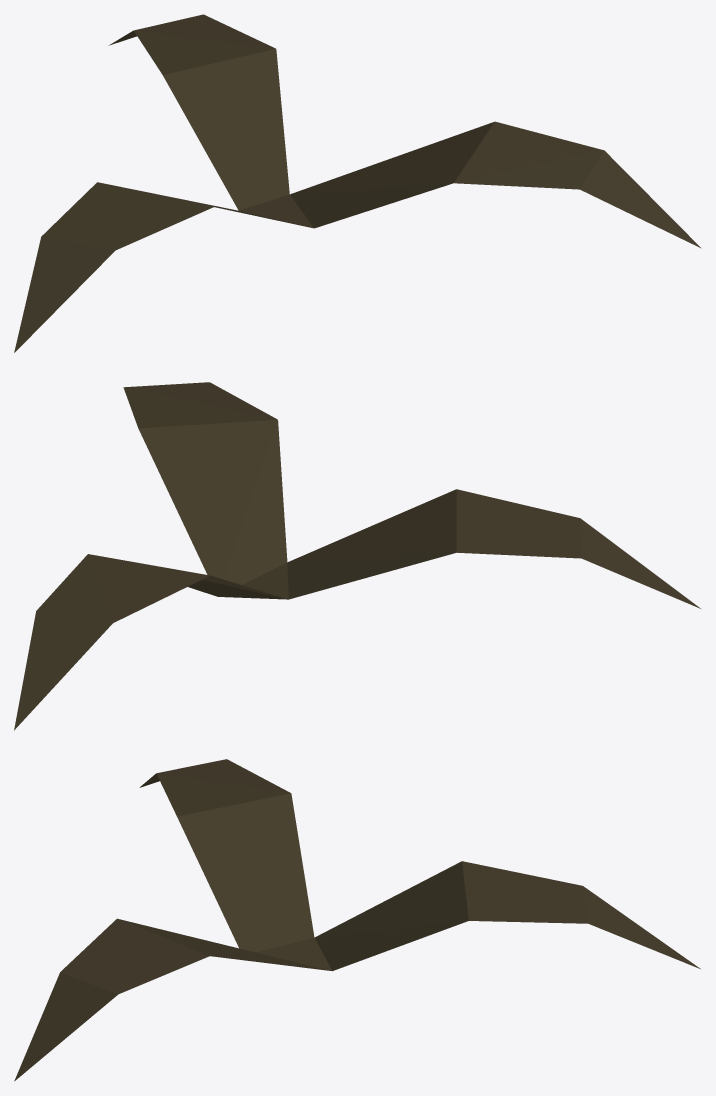
Rendered from ITFO_PLANTS_HERB_01.OBJ.
3 views of the same model, one above another, from view 1: azimuth 30°, elevation 25°; view 2: azimuth 150°, elevation 25°; view 3: azimuth 270°, elevation 25° (orthographic). The views are drawn at different scales.
Parts seen in each view (by area): view 1: ITFO_PLANTS_HERB_01; view 2: ITFO_PLANTS_HERB_01; view 3: ITFO_PLANTS_HERB_01.
Boxes of the visible parts, left/top/right/bottom form: ITFO_PLANTS_HERB_01: left=14, top=14, right=701, bottom=352; ITFO_PLANTS_HERB_01: left=14, top=382, right=700, bottom=730; ITFO_PLANTS_HERB_01: left=14, top=759, right=700, bottom=1081.
Bounding box in the file's own units: 0.7025 × 0.0913 × 0.6954.
